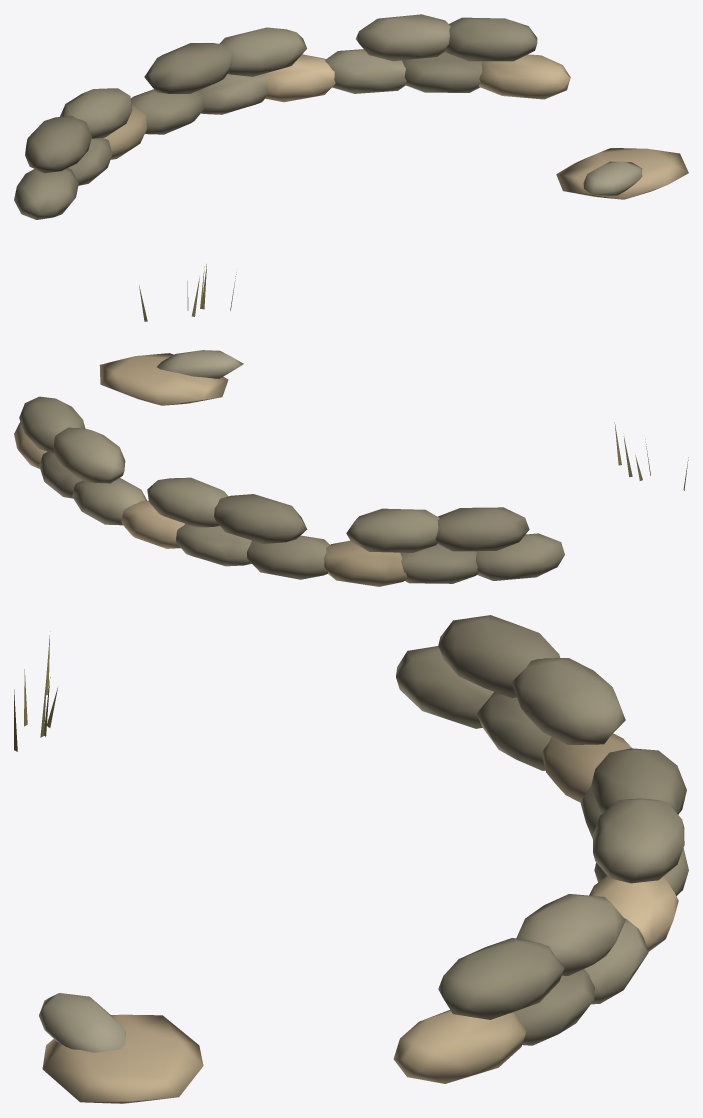
The model's file is sandbags_b_lod1.glb.
The picture shows the model from 3 angles, top to bottom: view 1: azimuth 30°, elevation 25°; view 2: azimuth 150°, elevation 25°; view 3: azimuth 270°, elevation 25°; orthographic projection. The views are drawn at different scales.
Visible parts, largest first — view 1: Surface.001; view 2: Surface.001; view 3: Surface.001.
Part boxes in pixels (x1,y1,x2,y2): Surface.001: (14, 14, 688, 321); Surface.001: (14, 350, 688, 586); Surface.001: (14, 615, 688, 1103).
Bounding box in the file's own units: 7.87 × 1.03 × 5.27.
